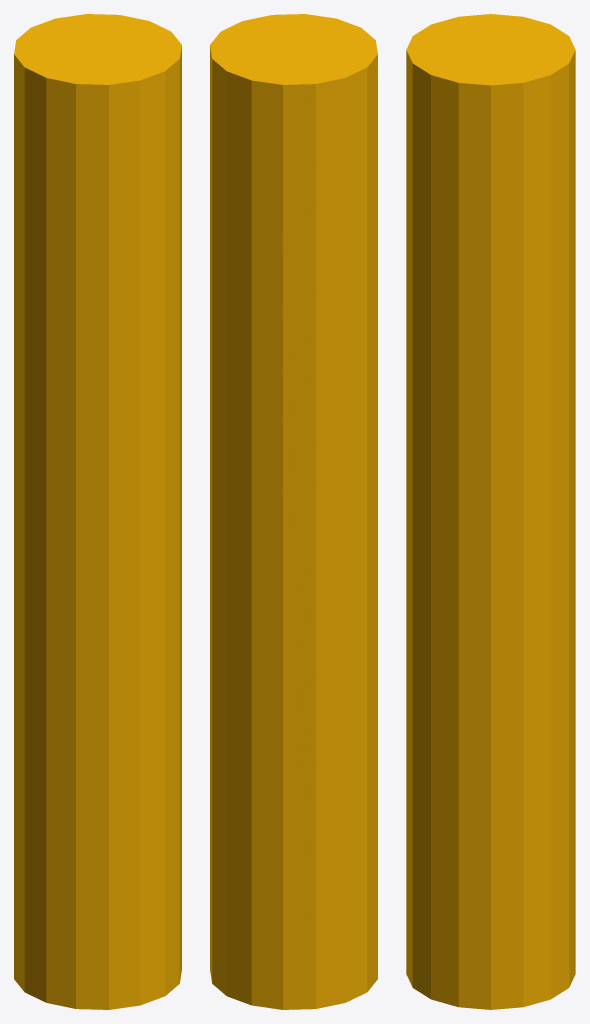
The model's file is COLUMN_MID.fbx.
The picture shows the model from 3 angles, left to right: view 1: azimuth 30°, elevation 25°; view 2: azimuth 150°, elevation 25°; view 3: azimuth 270°, elevation 25°; orthographic projection.
Visible parts, largest first — view 1: COLUMN_MID; view 2: COLUMN_MID; view 3: COLUMN_MID.
Part boxes in pixels (x1,y1,x2,y2): COLUMN_MID: [14, 14, 181, 1009]; COLUMN_MID: [210, 14, 377, 1009]; COLUMN_MID: [406, 14, 575, 1009].
Bounding box in the file's own units: 66.38 × 400 × 66.38.
